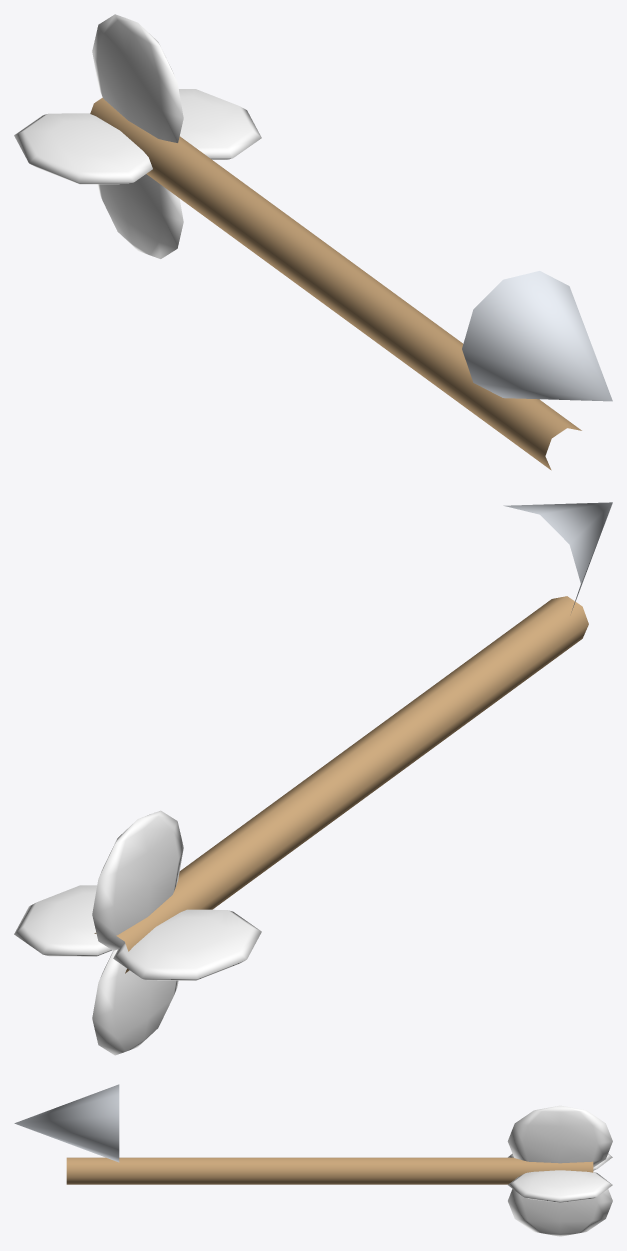
File: arrow.glb
The picture shows the model from 3 angles, top to bottom: view 1: azimuth 30°, elevation 25°; view 2: azimuth 150°, elevation 25°; view 3: azimuth 270°, elevation 25°; orthographic projection. The views are drawn at different scales.
Parts seen in each view (by area): view 1: Skin; view 2: Skin; view 3: Skin.
Boxes of the visible parts, x1,y1,x2,y2 form: Skin: [14, 14, 612, 470]; Skin: [14, 502, 612, 1055]; Skin: [14, 1084, 612, 1236].
Size of the model in its own units: 0.22 by 0.2471 by 0.91.
